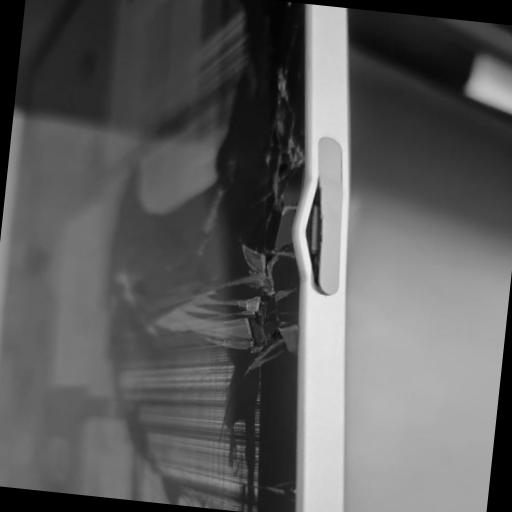phone: (0, 0, 353, 512)
